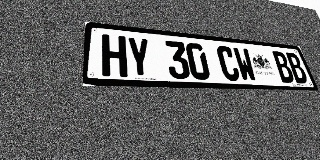0: (185, 42, 211, 80)
3: (165, 40, 191, 79)
B: (284, 52, 310, 83), (271, 51, 296, 83)
C: (215, 45, 241, 81)
H: (102, 34, 128, 77)
W: (232, 47, 258, 82)
Y: (126, 37, 152, 78)
